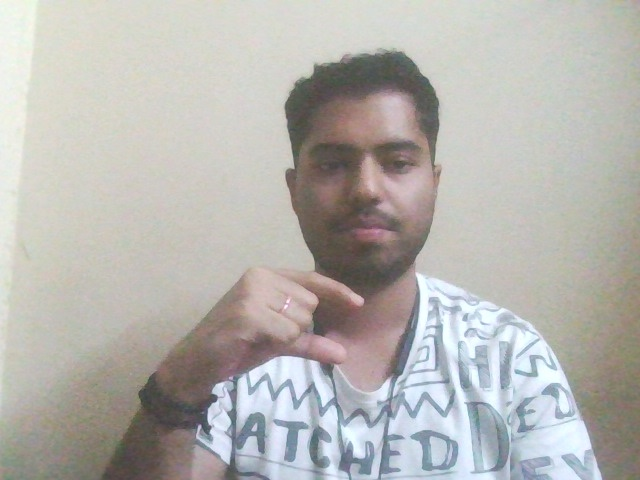U: (128, 250, 391, 420)
